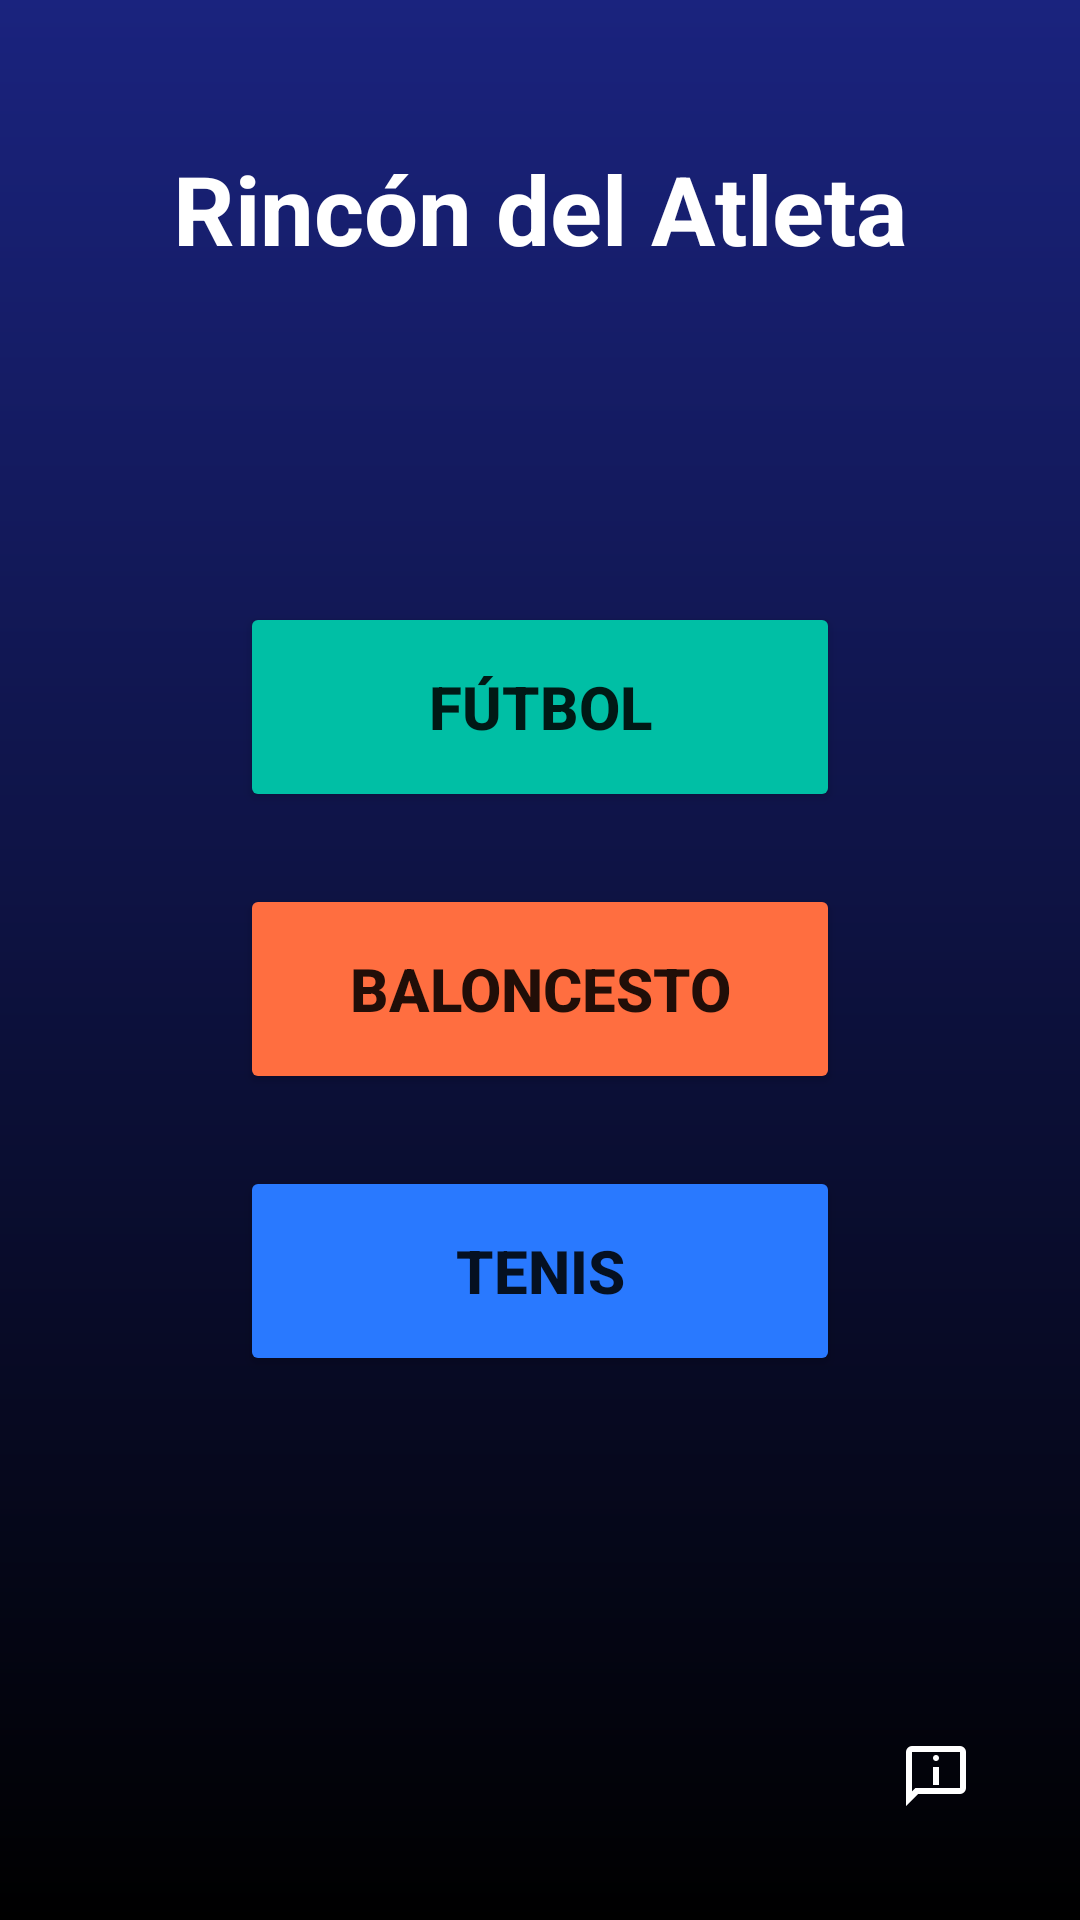

Screen size 1080px x 1920px. Icon name, then its box in pixels as [x1,y1,x2,y2]:
Información de la aplicación: [906,1746,966,1806]
